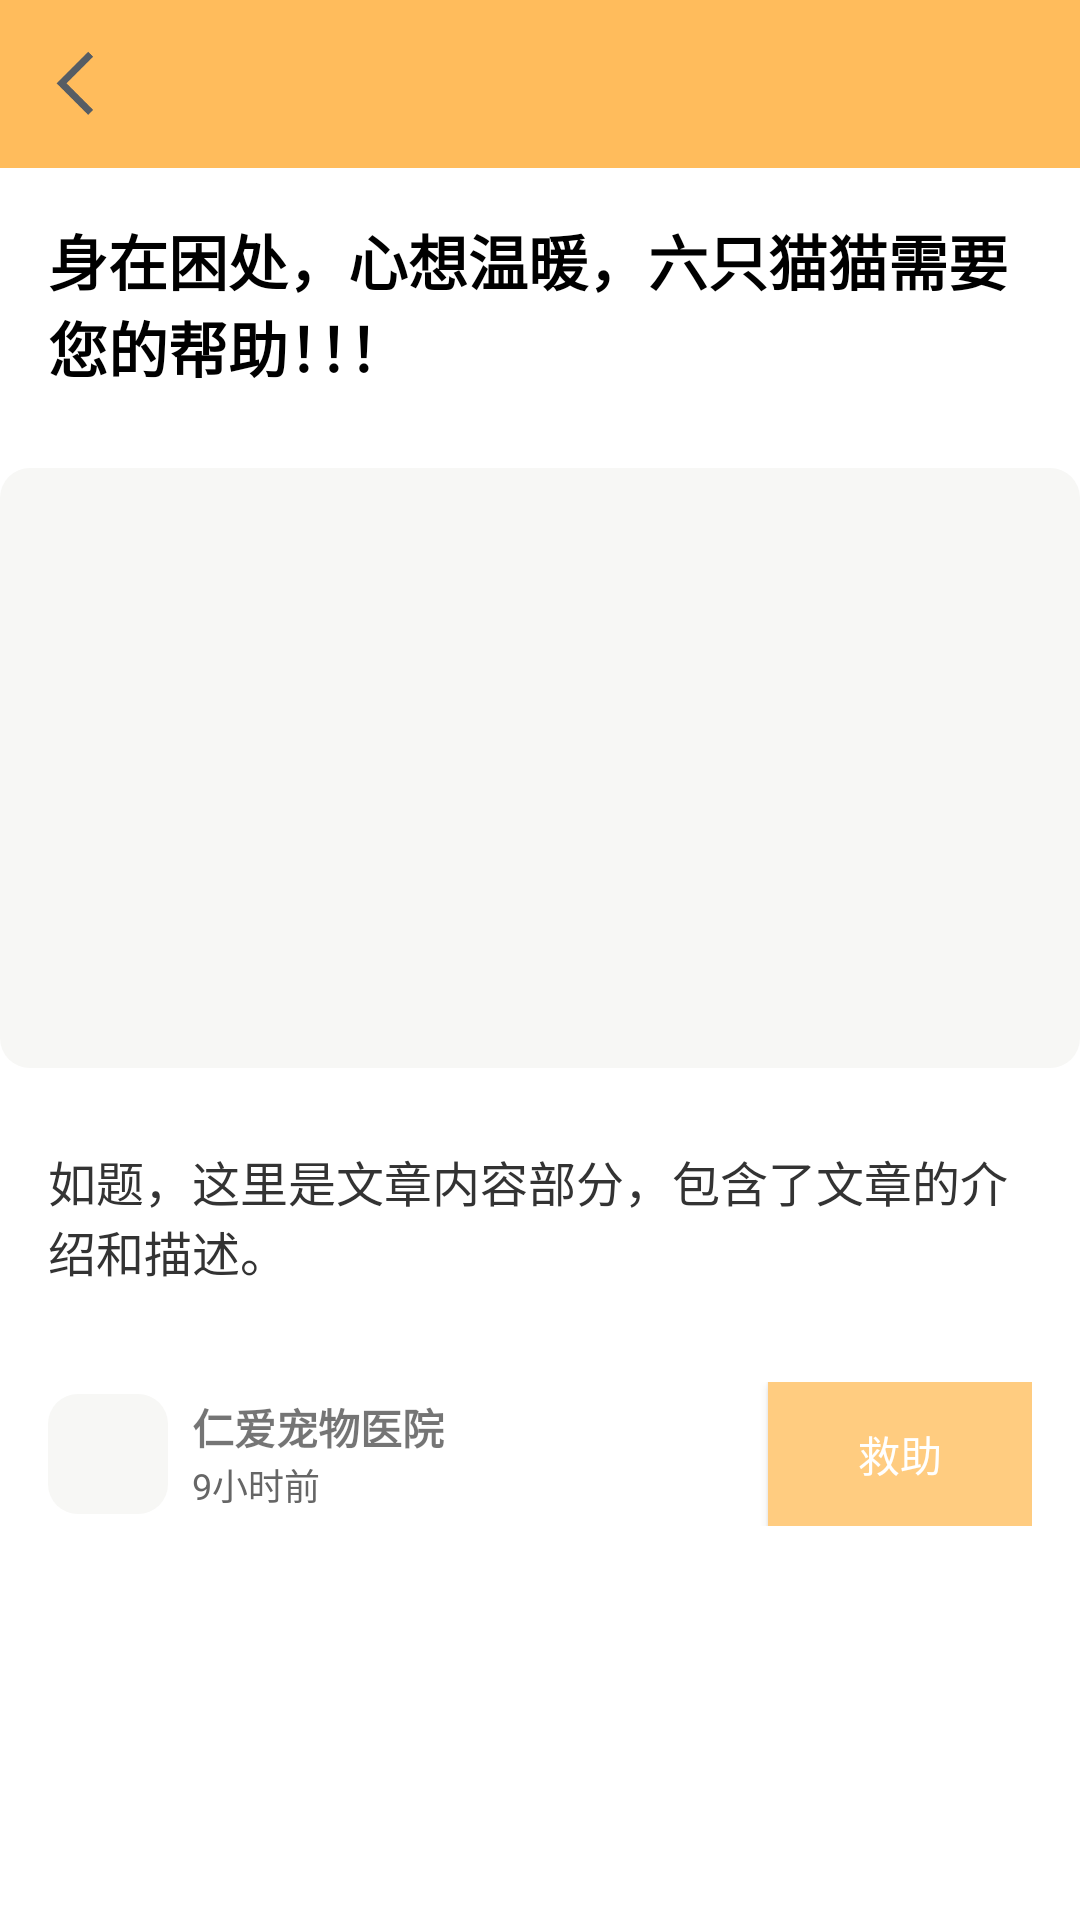

Where icons sit on this 1080*1920 app screen, as (x1, y1, x2, y2):
back: (56, 52, 93, 115)
